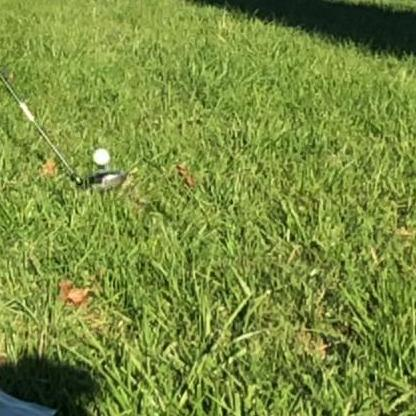golfball: (90, 144, 109, 163)
